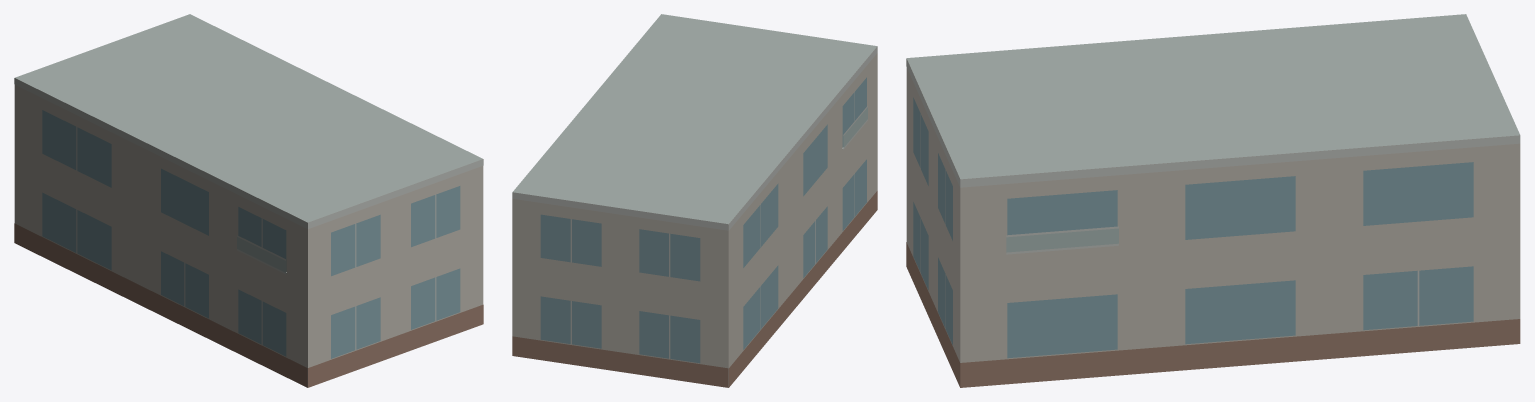
Rendered from survey-upis-32708432.glb.
3 renders of one model, left to right at view 1: azimuth 30°, elevation 25°; view 2: azimuth 150°, elevation 25°; view 3: azimuth 270°, elevation 25°, orthographic. The views are drawn at different scales.
Parts seen in each view (by area): view 1: survey-upis-32708432.tmp; view 2: survey-upis-32708432.tmp; view 3: survey-upis-32708432.tmp.
Boxes of the visible parts, box(x1,y1,x2,y2) form: survey-upis-32708432.tmp: box(14, 14, 483, 387); survey-upis-32708432.tmp: box(512, 14, 877, 387); survey-upis-32708432.tmp: box(906, 14, 1520, 387).
Size of the model in its own units: 10.38 by 6.1 by 16.29.
